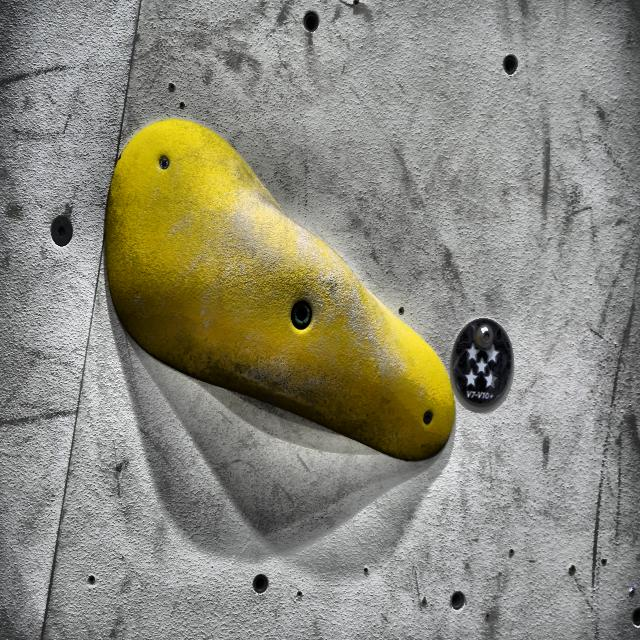Hold: (106, 112, 455, 465)
